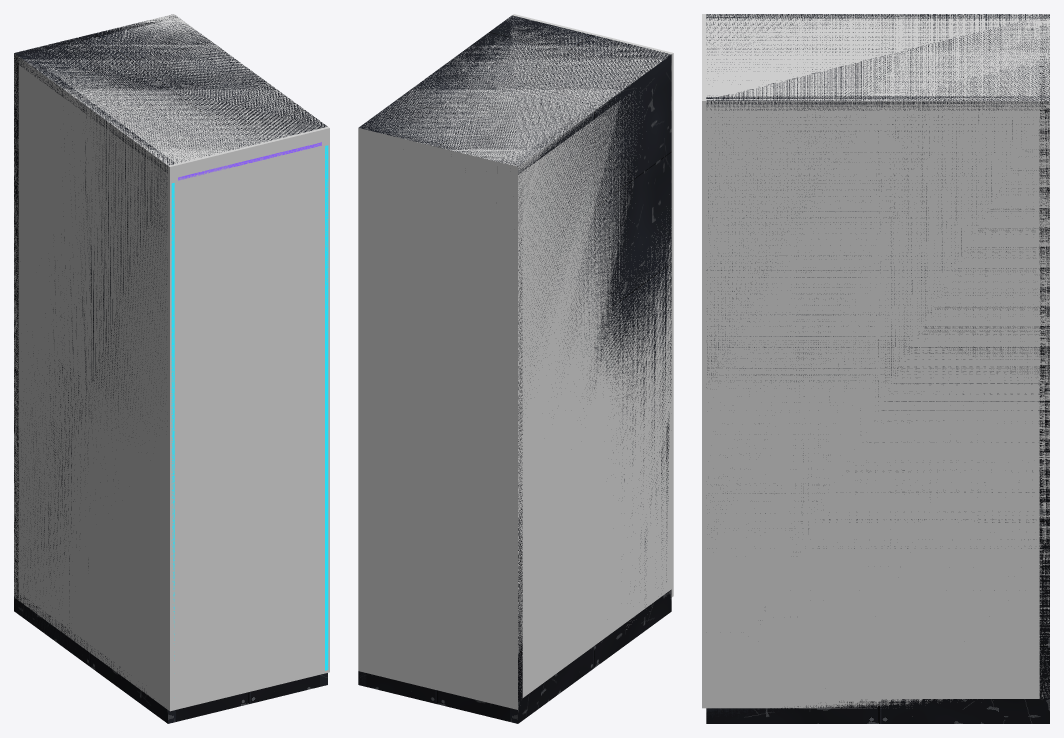
File: Tech_ServerRack.001.gltf
The picture shows the model from 3 angles, left to right: view 1: azimuth 30°, elevation 25°; view 2: azimuth 150°, elevation 25°; view 3: azimuth 270°, elevation 25°; orthographic projection. The views are drawn at different scales.
Parts seen in each view (by area): view 1: Tech_ServerRack.001_COL, Tech_ServerRack.001; view 2: Tech_ServerRack.001_COL, Tech_ServerRack.001; view 3: Tech_ServerRack.001_COL, Tech_ServerRack.001.
Part boxes in pixels (box(x1,y1,x2,y2)): Tech_ServerRack.001_COL: box(14, 14, 329, 711); Tech_ServerRack.001: box(14, 14, 328, 723); Tech_ServerRack.001_COL: box(358, 14, 673, 709); Tech_ServerRack.001: box(358, 15, 671, 723); Tech_ServerRack.001_COL: box(702, 14, 1049, 708); Tech_ServerRack.001: box(706, 14, 1049, 723).
Size of the model in its own units: 0.6 by 2 by 1.01.
Materials: 9 (2 with a texture image).
